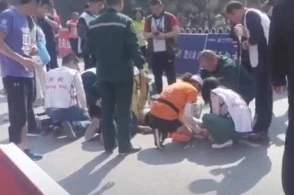10+: (1, 1, 292, 194)
down: (188, 110, 218, 143)
